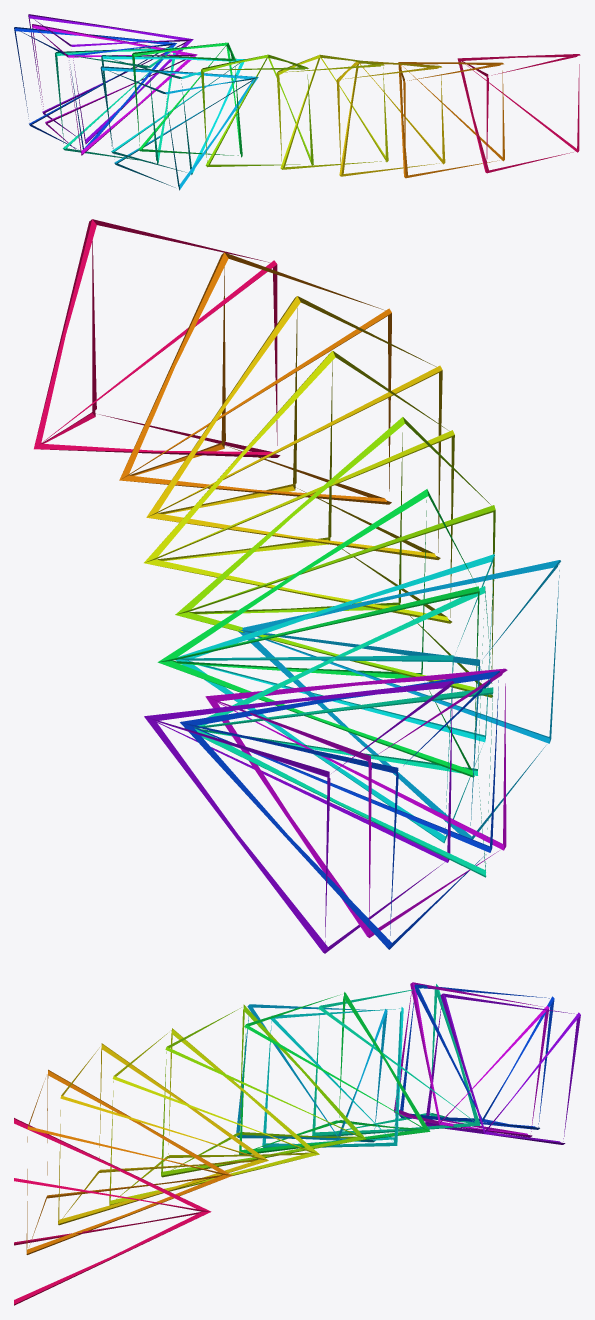
The model's file is glbscene_94.2_All_maskbFalse_maskwFalse_camTrue_skyFalse_predPointmap_Branch.glb.
3 renders of one model, top to bottom at view 1: azimuth 30°, elevation 25°; view 2: azimuth 150°, elevation 25°; view 3: azimuth 270°, elevation 25°, orthographic. The views are drawn at different scales.
Parts seen in each view (by area): view 1: world; view 2: world; view 3: world.
Boxes of the visible parts, bbox=[...] form: world: bbox=[14, 14, 580, 190]; world: bbox=[34, 219, 560, 953]; world: bbox=[14, 982, 580, 1305].
Size of the model in its own units: 0.2235 by 0.0814 by 0.2305.
